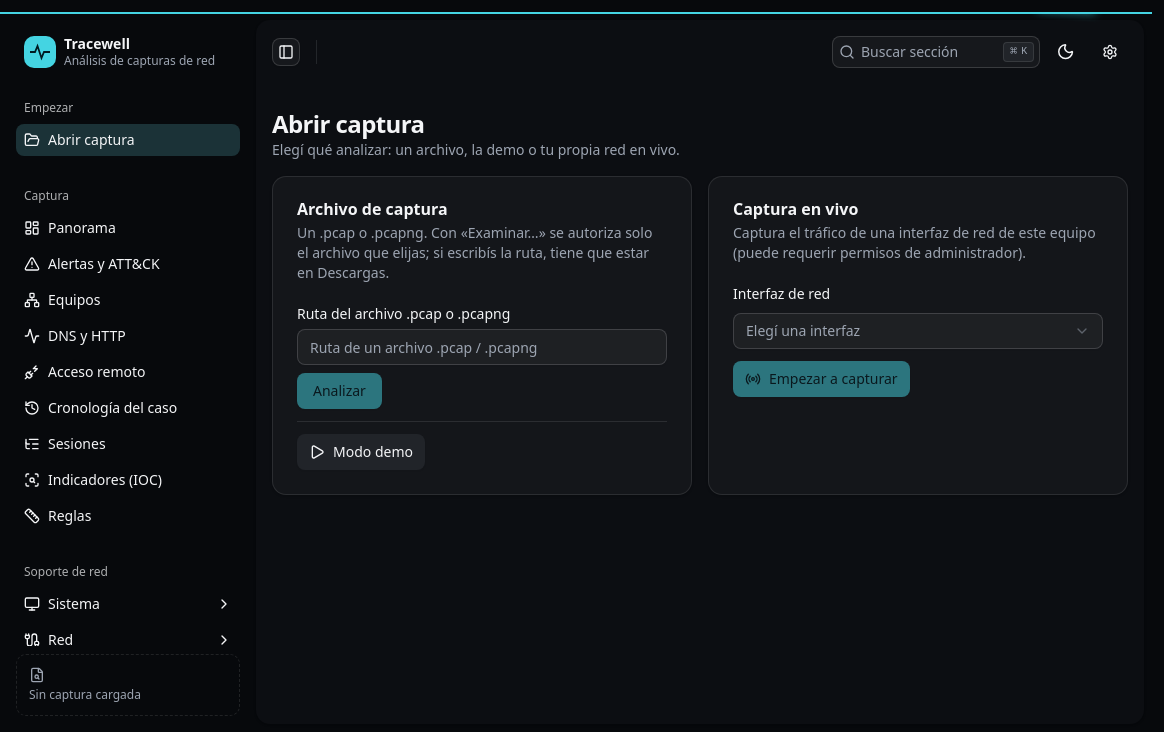
Inicio (abrir captura) › la demo carga la captura y lleva a las alertas
The width and height of the screenshot is (1164, 732).
Click the button "Modo demo": coordinates (361, 452) [297,434,425,470]
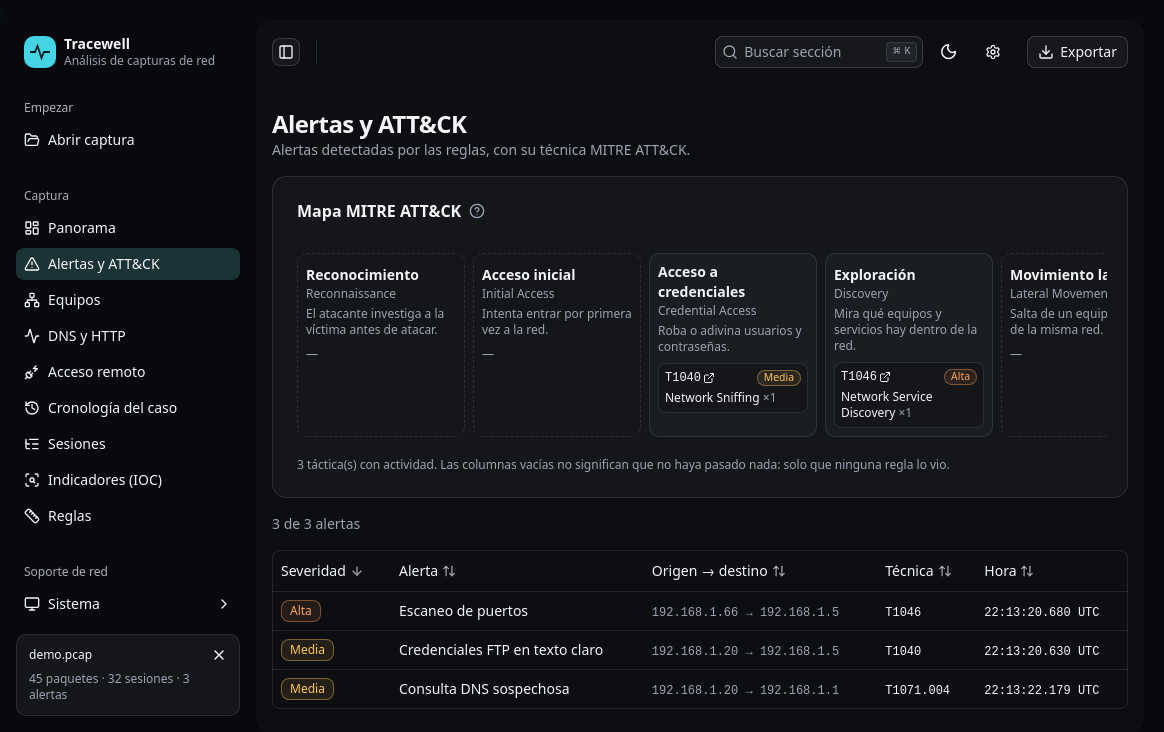
expect the text "demo.pcap" is shown: met, box [29,647,92,663]
